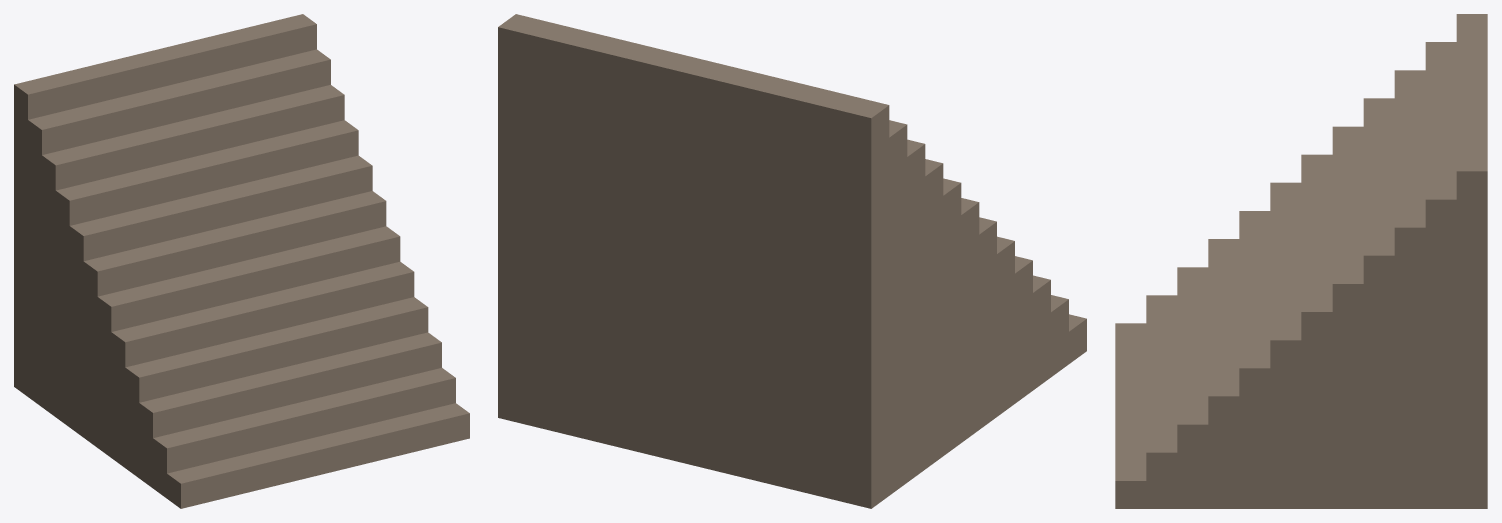
The model's file is stairs_collider.glb.
3 renders of one model, left to right at view 1: azimuth 30°, elevation 25°; view 2: azimuth 150°, elevation 25°; view 3: azimuth 270°, elevation 25°, orthographic. The views are drawn at different scales.
Parts seen in each view (by area): view 1: stairs_collider; view 2: stairs_collider; view 3: stairs_collider.
Boxes of the visible parts, bbox=[...] form: stairs_collider: bbox=[14, 14, 469, 508]; stairs_collider: bbox=[498, 14, 1086, 508]; stairs_collider: bbox=[1115, 14, 1487, 508].
Size of the model in its own units: 3 by 3 by 3.
